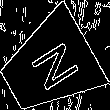N_SW: (19, 36, 79, 97)
